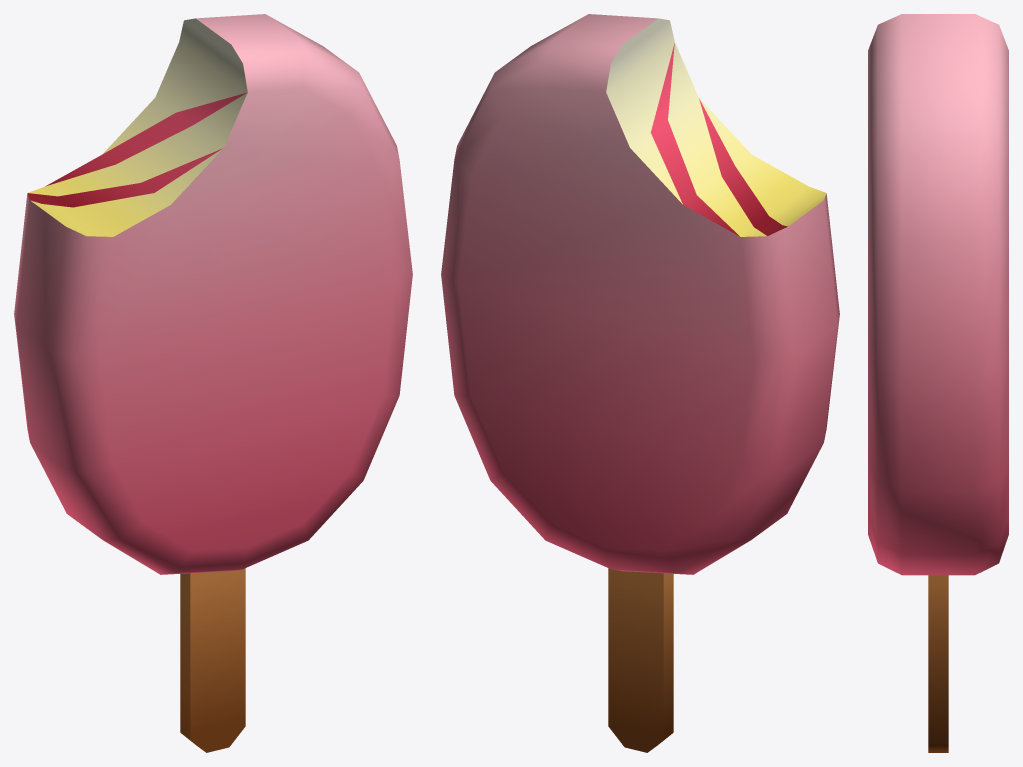
File: m_BigPopsicle01.fbx
The picture shows the model from 3 angles, left to right: view 1: azimuth 30°, elevation 25°; view 2: azimuth 150°, elevation 25°; view 3: azimuth 270°, elevation 25°; orthographic projection. The views are drawn at different scales.
Visible parts, largest first — view 1: m_BigPopsicle01; view 2: m_BigPopsicle01; view 3: m_BigPopsicle01.
Boxes of the visible parts, <box> form: m_BigPopsicle01: <box>14,14,412,752</box>; m_BigPopsicle01: <box>441,14,839,752</box>; m_BigPopsicle01: <box>868,14,1008,752</box>.
Bounding box in the file's own units: 12.05 × 22.96 × 4.
